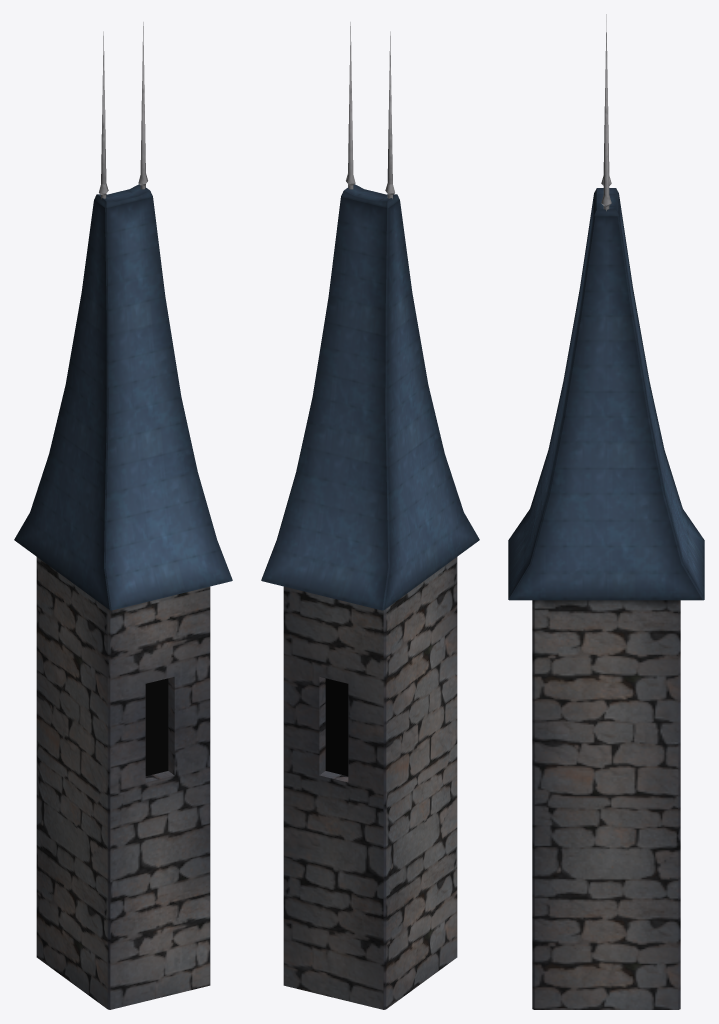
The model's file is sb_obj_outdoor002_DemonsCastle01_hut00.fbx.
The picture shows the model from 3 angles, left to right: view 1: azimuth 30°, elevation 25°; view 2: azimuth 150°, elevation 25°; view 3: azimuth 270°, elevation 25°; orthographic projection.
Parts seen in each view (by area): view 1: sb_obj_outdoor002_DemonsCastle01_hut00; view 2: sb_obj_outdoor002_DemonsCastle01_hut00; view 3: sb_obj_outdoor002_DemonsCastle01_hut00.
Boxes of the visible parts, x1,y1,x2,y2 form: sb_obj_outdoor002_DemonsCastle01_hut00: (14,22,232,1009); sb_obj_outdoor002_DemonsCastle01_hut00: (261,22,479,1009); sb_obj_outdoor002_DemonsCastle01_hut00: (508,14,704,1009).
Size of the model in its own units: 0.8486 by 6.28 by 1.16.
